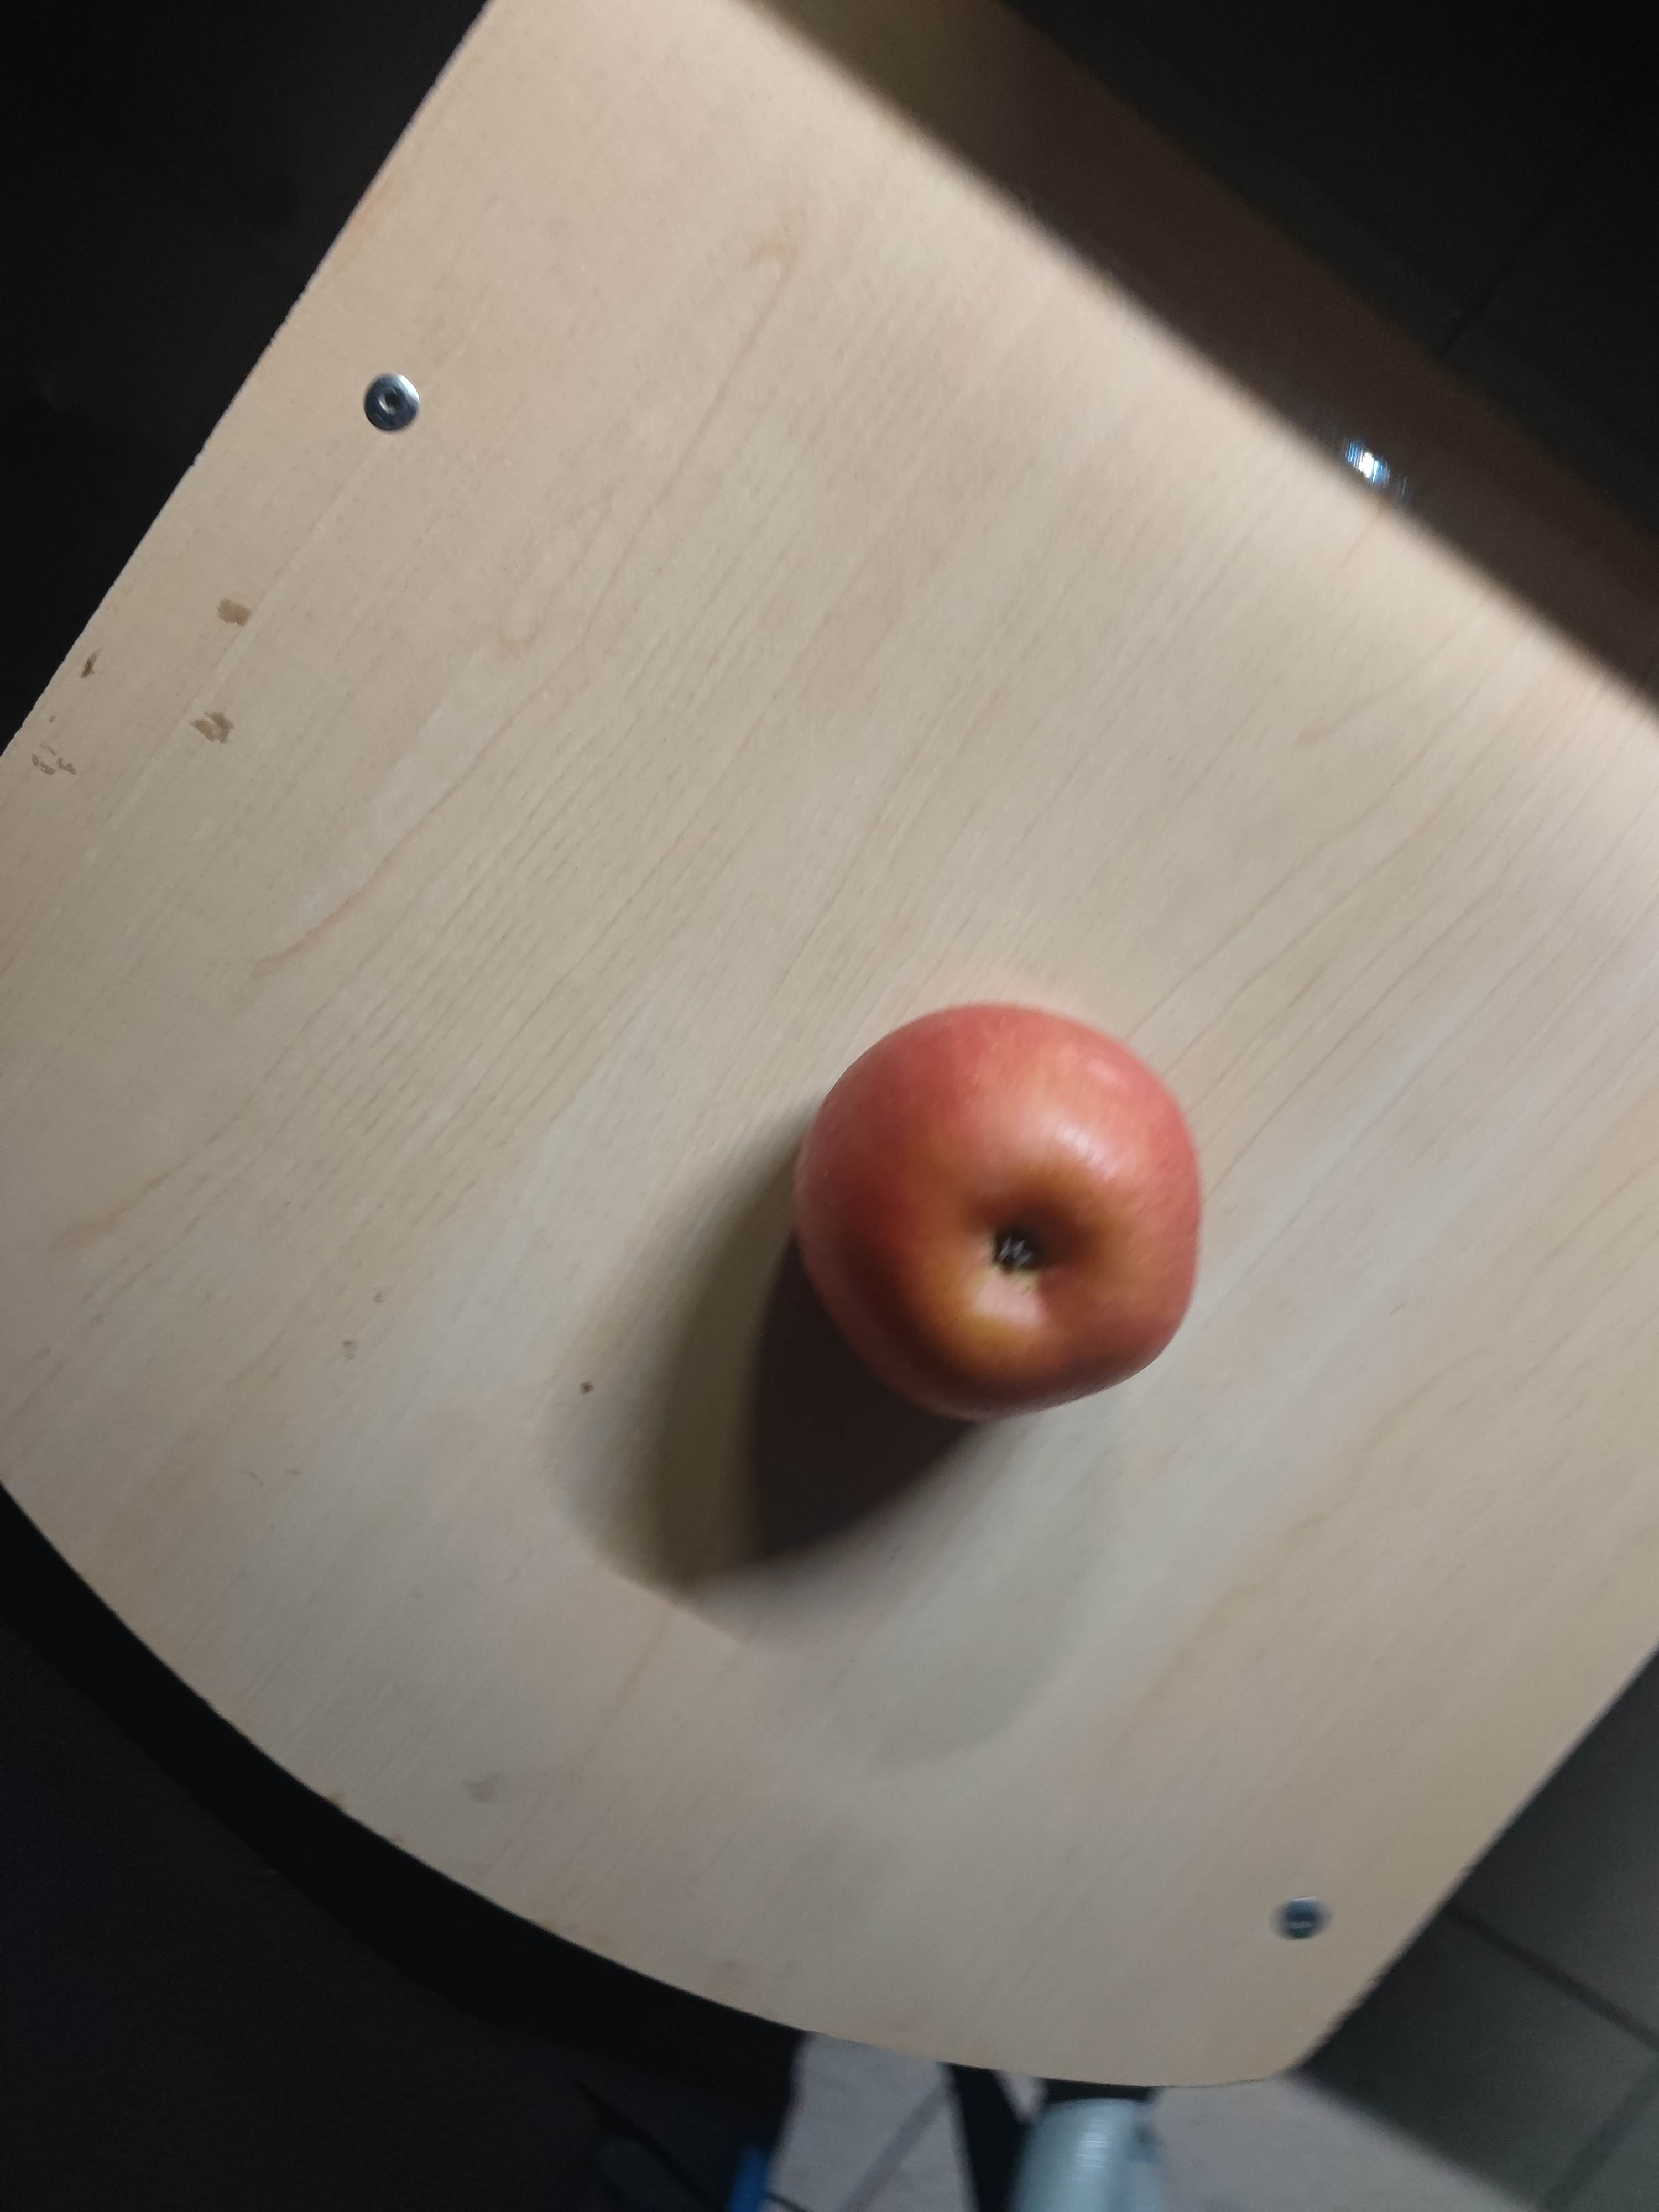apple: (796, 984, 1215, 1432)
